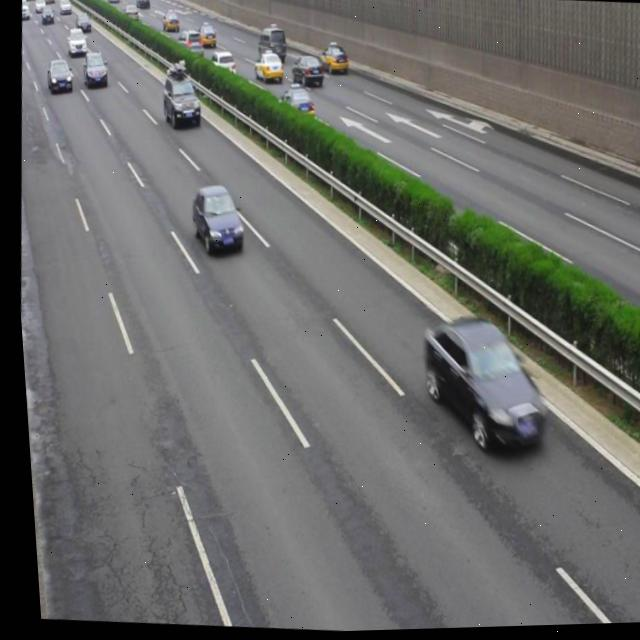car: (410, 311, 543, 456), (184, 182, 244, 258), (159, 66, 203, 132), (273, 86, 313, 125), (287, 54, 324, 91), (314, 42, 349, 80), (205, 49, 236, 87), (251, 52, 283, 86)
